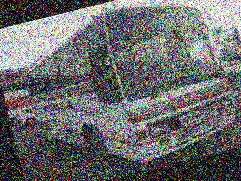bus: (12, 0, 241, 181)
